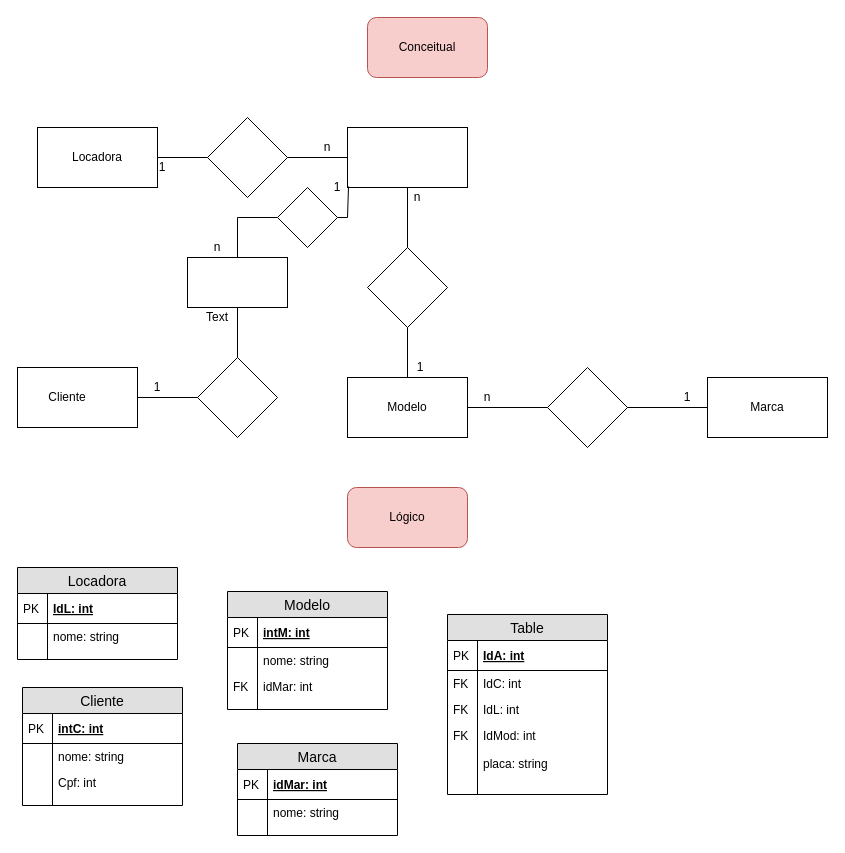
Image size: 845x853. Some labels were removed from this diagram. The centre of each missing label's shape, as x and y in pixels:
"Aluguel" belongs at (237,282).
"Veículo" belongs at (407,157).
